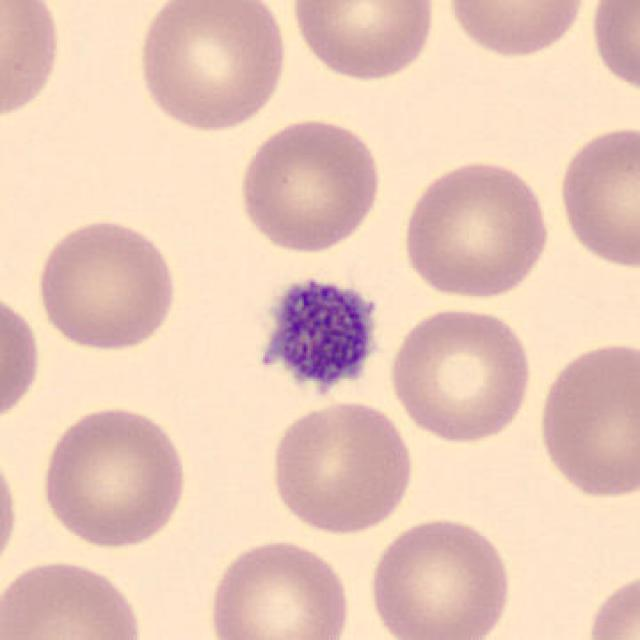Platelets: (250, 270, 386, 404)
RBC: (396, 154, 554, 304), (36, 400, 192, 550), (384, 302, 537, 446), (233, 114, 386, 256), (132, 0, 292, 134), (32, 213, 181, 354), (267, 397, 416, 538), (364, 513, 516, 640), (534, 335, 638, 504), (204, 534, 354, 640), (286, 0, 439, 85), (0, 553, 149, 640), (553, 120, 638, 271), (443, 0, 592, 62), (0, 0, 66, 125), (0, 283, 44, 430), (587, 0, 638, 97), (582, 566, 638, 640), (0, 435, 23, 582)
